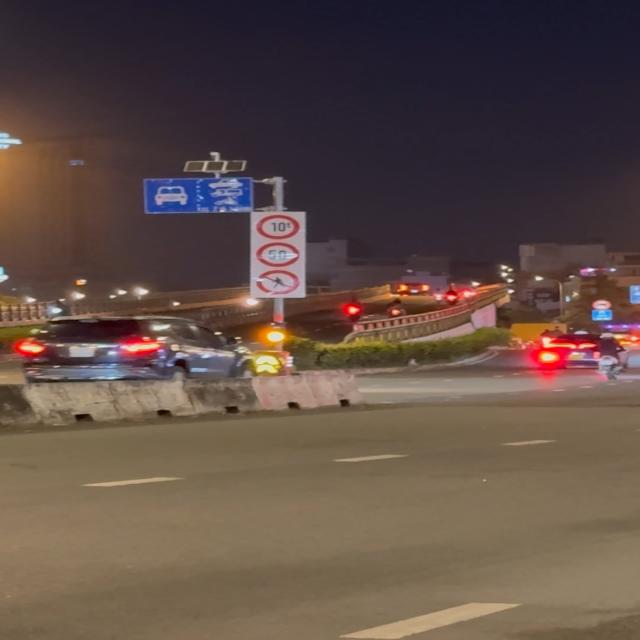Bien bao cam nguoi di bo: (255, 269, 300, 295)
Bien bao toc do toi da cho phep: (254, 242, 302, 268)
